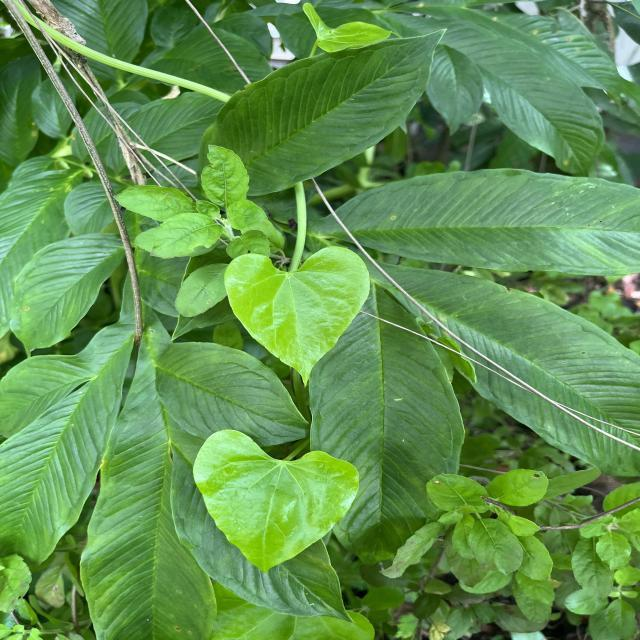Tinospora cordifolia: (192, 426, 362, 576), (223, 244, 372, 390)
